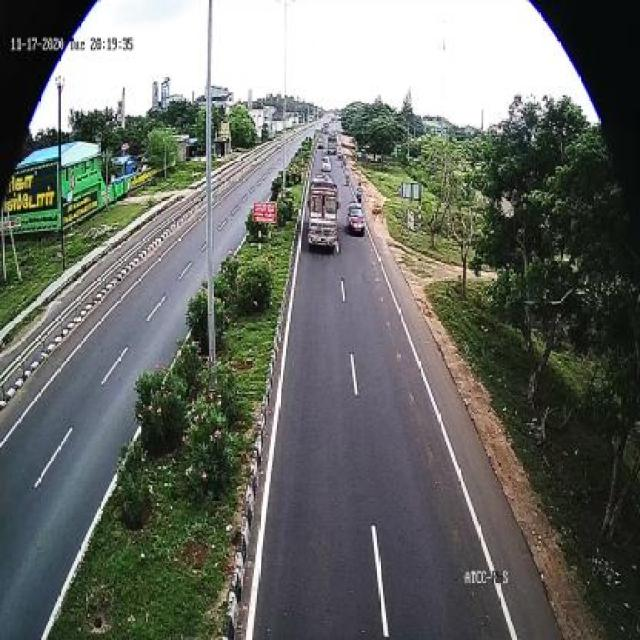car: (348, 203, 366, 235)
